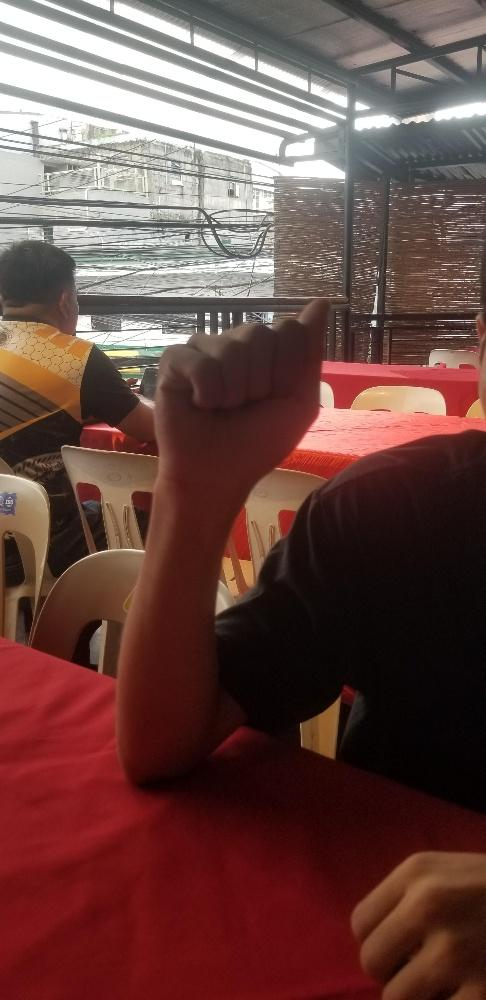a: (150, 295, 335, 490)
